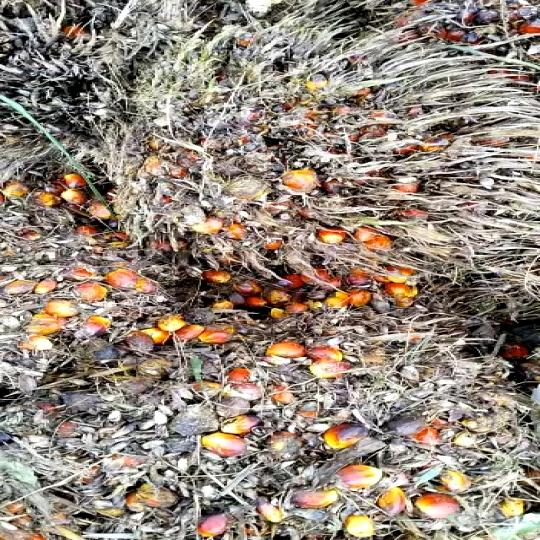terlalu masak: (117, 28, 525, 273)
